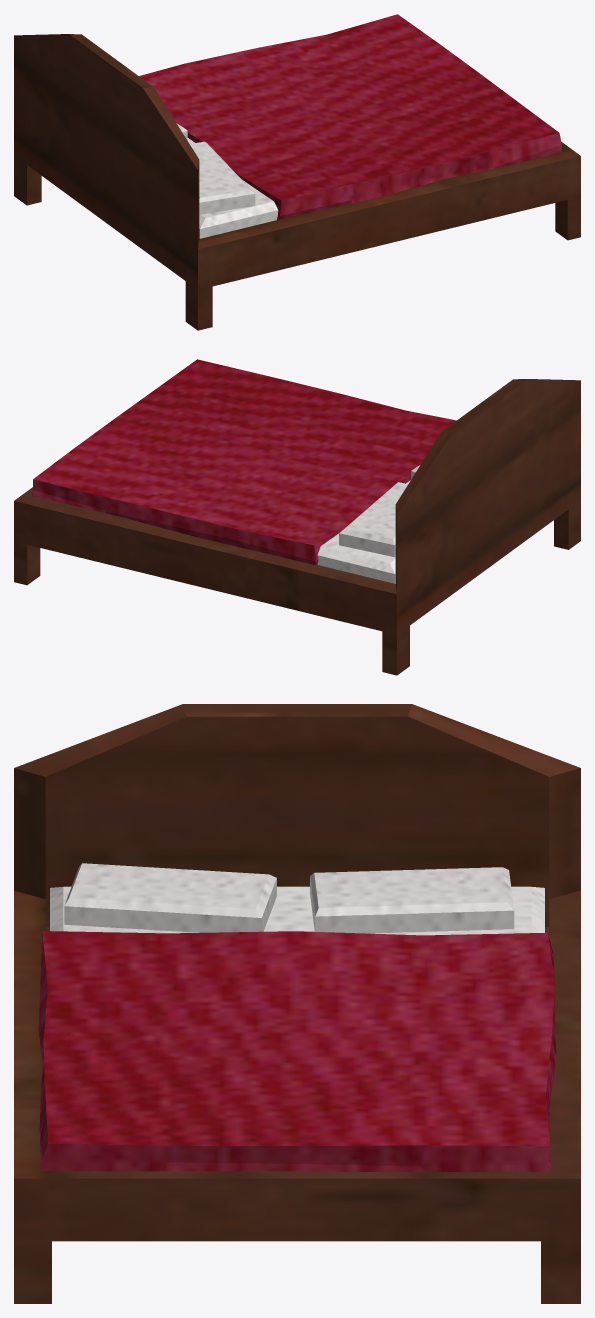
The model's file is bed-large.fbx.
3 renders of one model, top to bottom at view 1: azimuth 30°, elevation 25°; view 2: azimuth 150°, elevation 25°; view 3: azimuth 270°, elevation 25°, orthographic. The views are drawn at different scales.
Visible parts, largest first — view 1: Cube.017, Cube.020, Cube.019, Cube.018; view 2: Cube.017, Cube.020, Cube.025, Cube.018; view 3: Cube.017, Cube.020, Cube.019, Cube.025, Cube.018.
Part boxes in pixels (x1=…): Cube.017: x1=14, y1=34, x2=580, y2=330; Cube.020: x1=139, y1=14, x2=561, y2=219; Cube.019: x1=190, y1=141, x2=255, y2=214; Cube.018: x1=187, y1=138, x2=278, y2=238; Cube.017: x1=14, y1=379, x2=580, y2=675; Cube.020: x1=32, y1=359, x2=456, y2=564; Cube.025: x1=339, y1=482, x2=407, y2=556; Cube.018: x1=317, y1=480, x2=410, y2=583; Cube.017: x1=14, y1=704, x2=580, y2=1303; Cube.020: x1=38, y1=931, x2=556, y2=1172; Cube.019: x1=64, y1=863, x2=276, y2=932; Cube.025: x1=310, y1=867, x2=514, y2=933; Cube.018: x1=50, y1=886, x2=544, y2=935.
Bounding box in the file's own units: 400 × 202 × 333.
